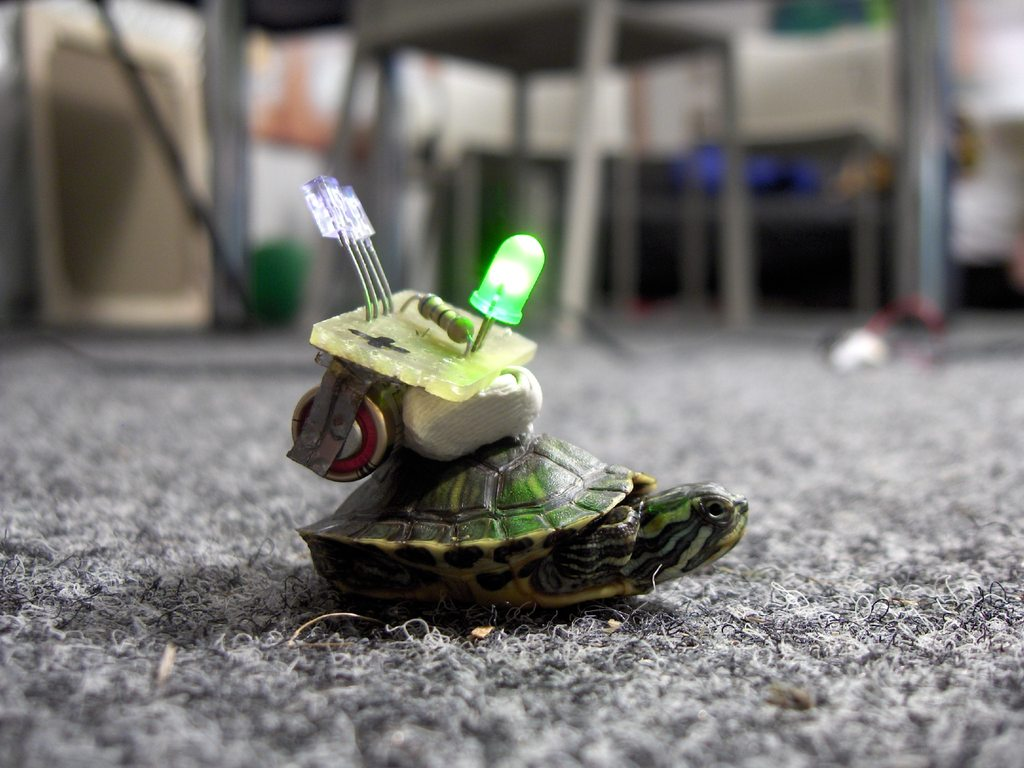Sea turtles: (295, 430, 750, 616)
